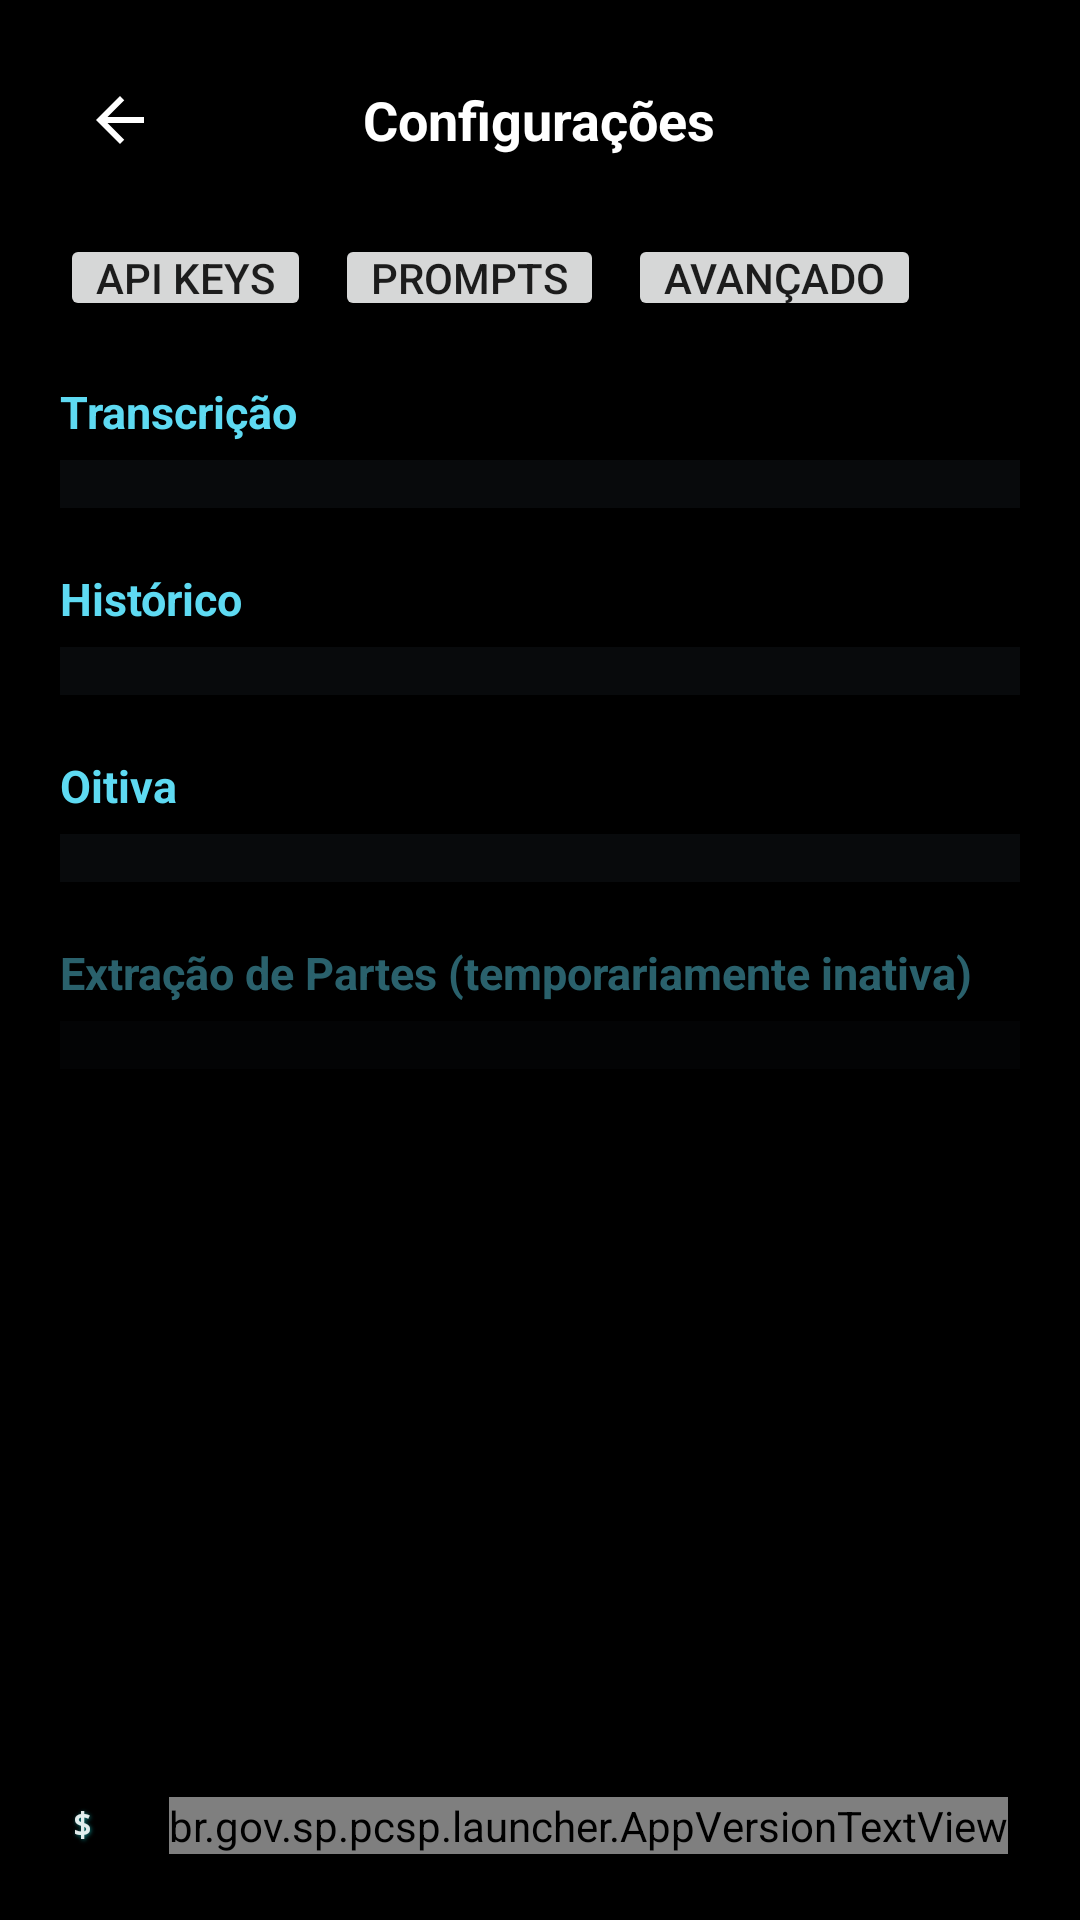

Icons on this 1080w x 1920h Android screen, each with its box as (x1, y1, x2, y2):
Voltar: (96, 96, 144, 144)
